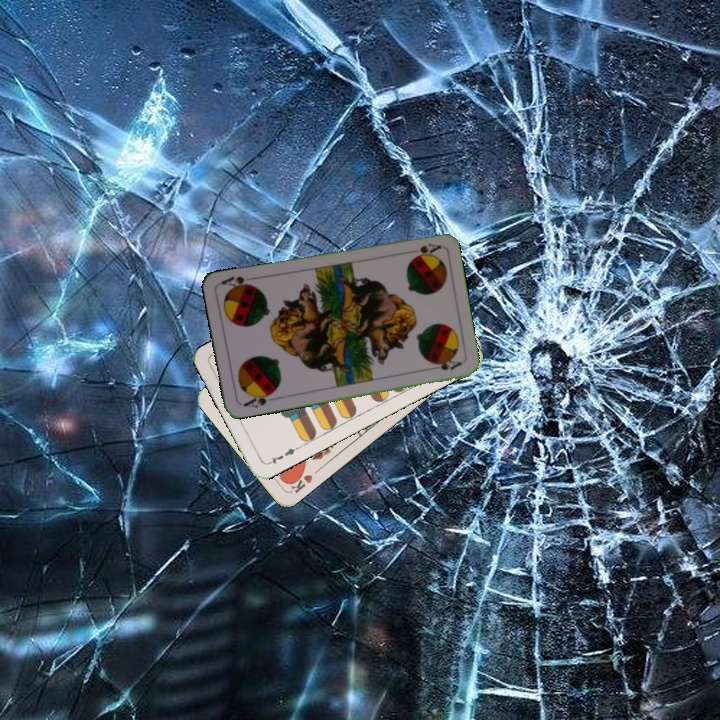E7: (263, 443, 301, 467)
HK: (284, 467, 315, 496)
SA: (239, 387, 278, 411), (403, 239, 443, 260)
